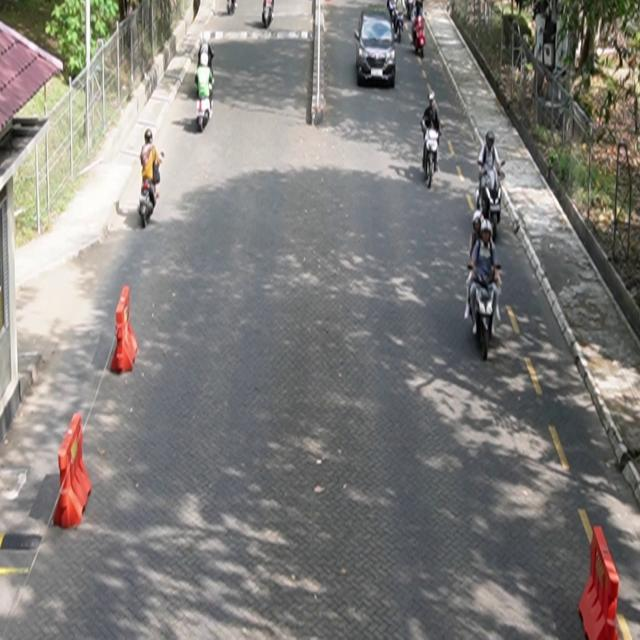car: (355, 9, 397, 89)
